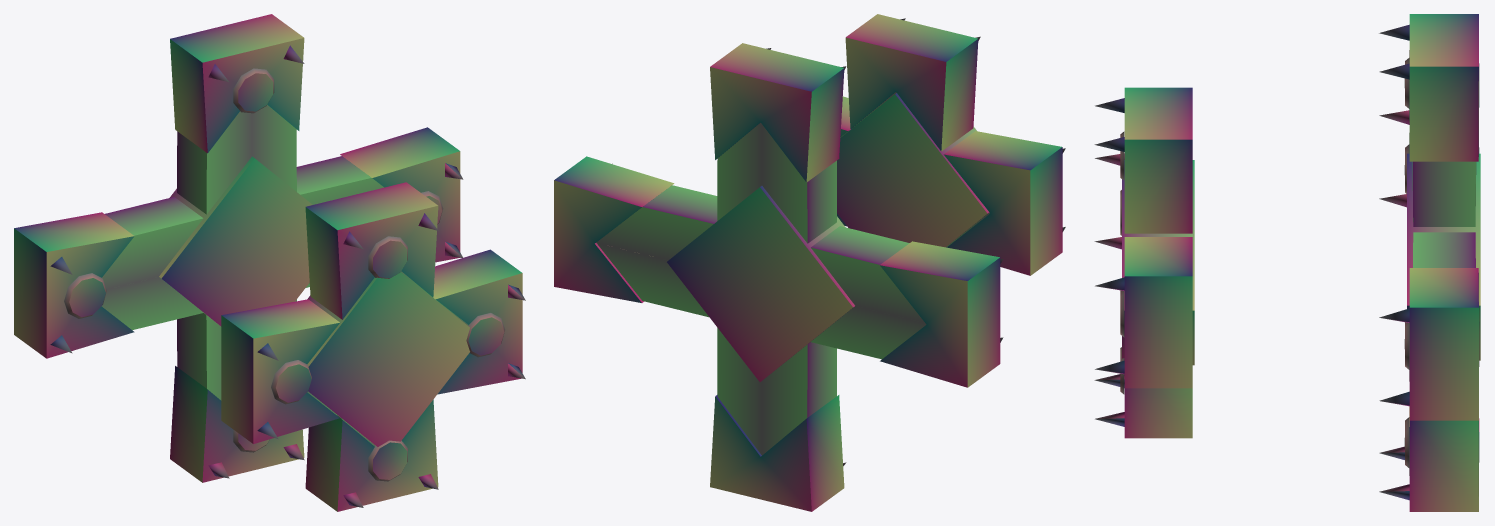
The model's file is Eff_LuciaWeapon_Head.fbx.
3 views of the same model, side by side, from view 1: azimuth 30°, elevation 25°; view 2: azimuth 150°, elevation 25°; view 3: azimuth 270°, elevation 25° (orthographic). The views are drawn at different scales.
Parts seen in each view (by area): view 1: Eff_LuciaWeapon_01_A, Eff_LuciaWeapon_01_B; view 2: Eff_LuciaWeapon_01_A, Eff_LuciaWeapon_01_B; view 3: Eff_LuciaWeapon_01_A, Eff_LuciaWeapon_01_B.
Part boxes in pixels (box(x1,y1,x2,y2)): Eff_LuciaWeapon_01_A: box(14, 14, 463, 482); Eff_LuciaWeapon_01_B: box(221, 182, 525, 511); Eff_LuciaWeapon_01_A: box(554, 43, 1003, 511); Eff_LuciaWeapon_01_B: box(837, 14, 1065, 275); Eff_LuciaWeapon_01_A: box(1379, 14, 1480, 511); Eff_LuciaWeapon_01_B: box(1094, 87, 1194, 438).
Bounding box in the file's own units: 0.7111 × 0.6901 × 0.5431.
